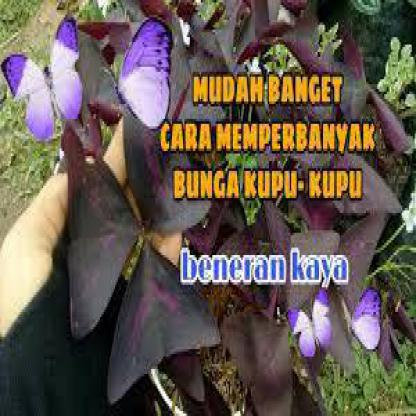Kupu-Kupu: (87, 147, 206, 365), (324, 58, 402, 236)
